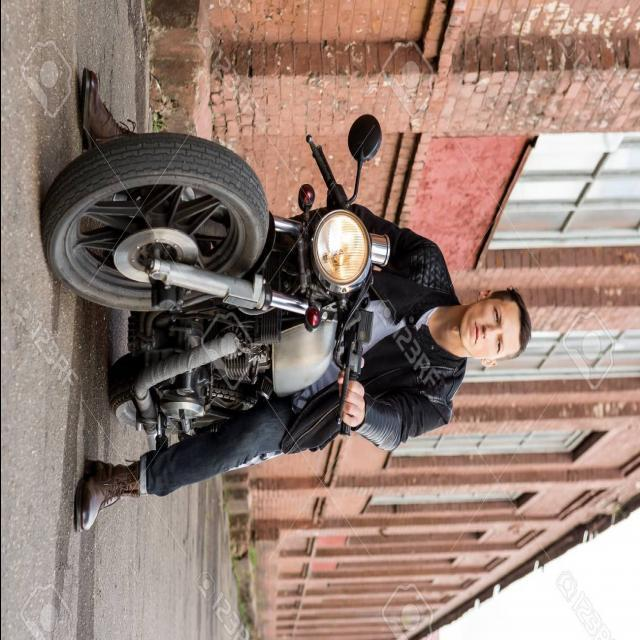motorcycle: (45, 116, 533, 522)
